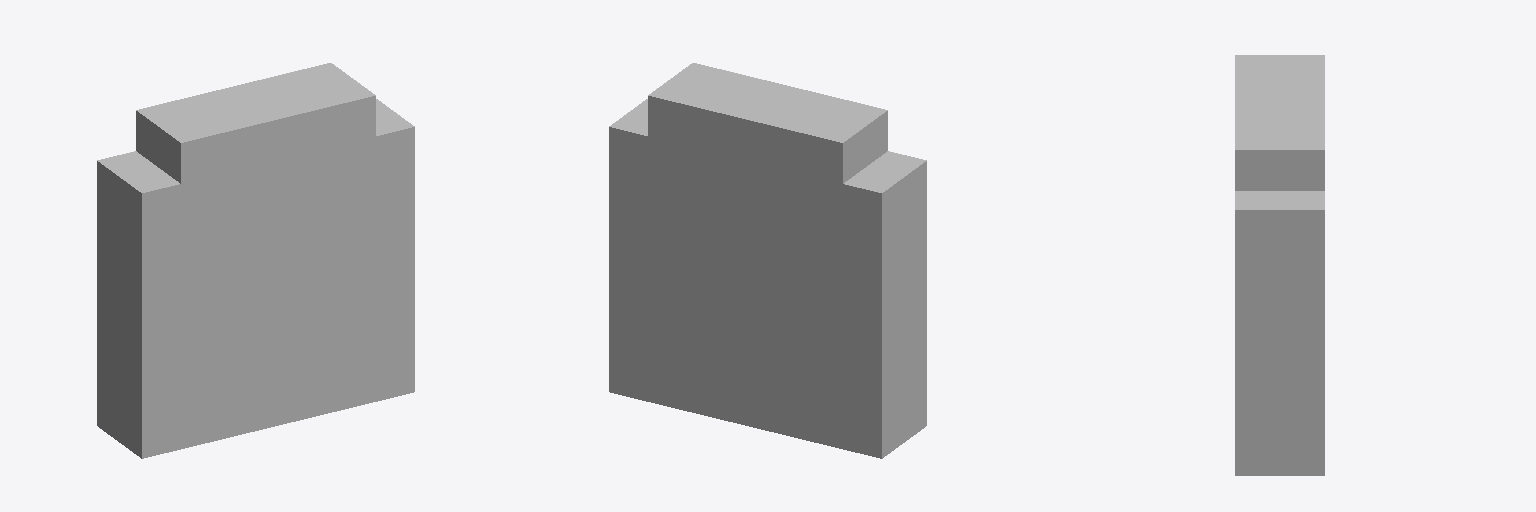
The model's file is rua_tumba1.obj.
The picture shows the model from 3 angles: view 1: azimuth 30°, elevation 25°; view 2: azimuth 150°, elevation 25°; view 3: azimuth 270°, elevation 25°; orthographic projection.
Visible parts, largest first — view 1: bb_main; view 2: bb_main; view 3: bb_main.
Boxes of the visible parts, x1,y1,x2,y2 form: bb_main: [97, 63, 414, 458]; bb_main: [609, 63, 926, 458]; bb_main: [1235, 55, 1324, 475].
Size of the model in its own units: 0.875 by 0.9375 by 0.25.